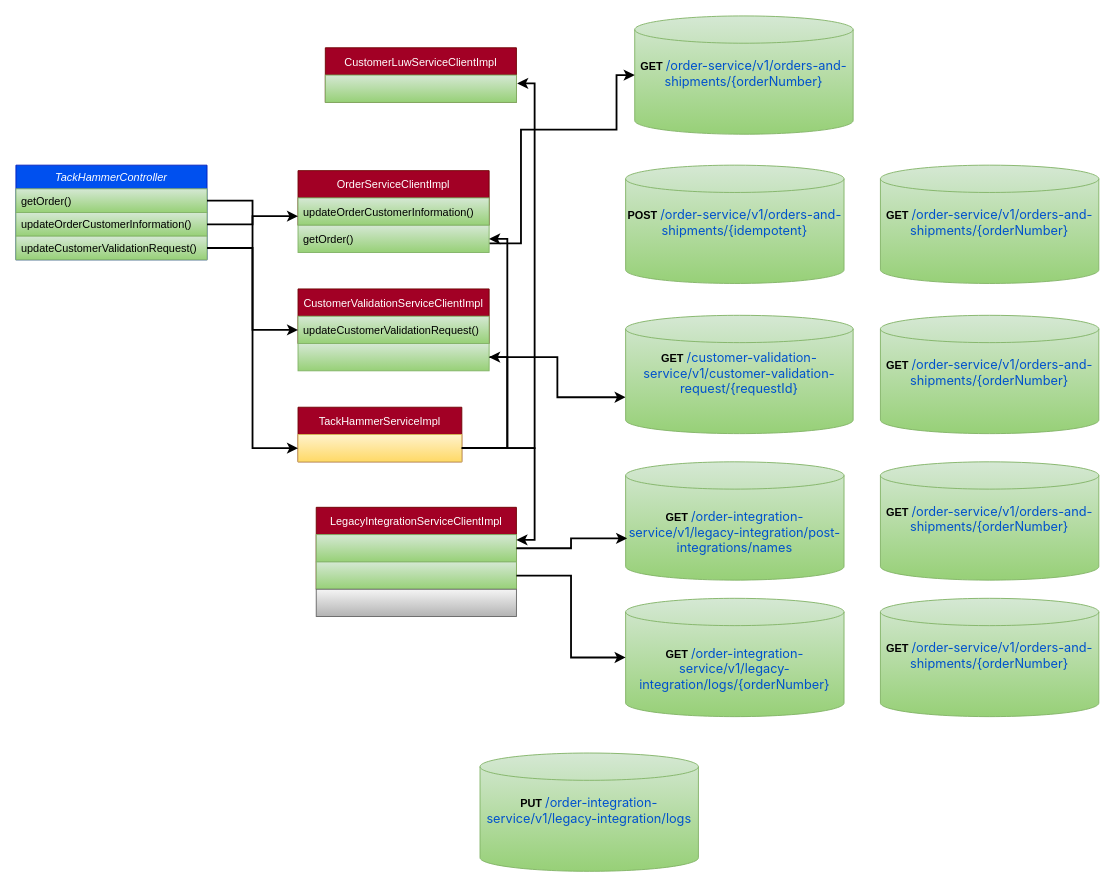
Image size: 1115x887. Some labels were removed from this diagram. Each missing label, with the centre of its shape:
"getCustomerValidationRequest()" goes at (x=393, y=357).
"getLegacyIntegrationLogResponse()" goes at (x=415, y=575).
"getOrderDetails()" goes at (x=379, y=448).
"getPostIntegrationNamesResponse()" goes at (x=415, y=548).
"getShipTosByCustomerId()" goes at (x=420, y=88).
"updateLegacyIntegrationLogs()" goes at (x=415, y=602).
